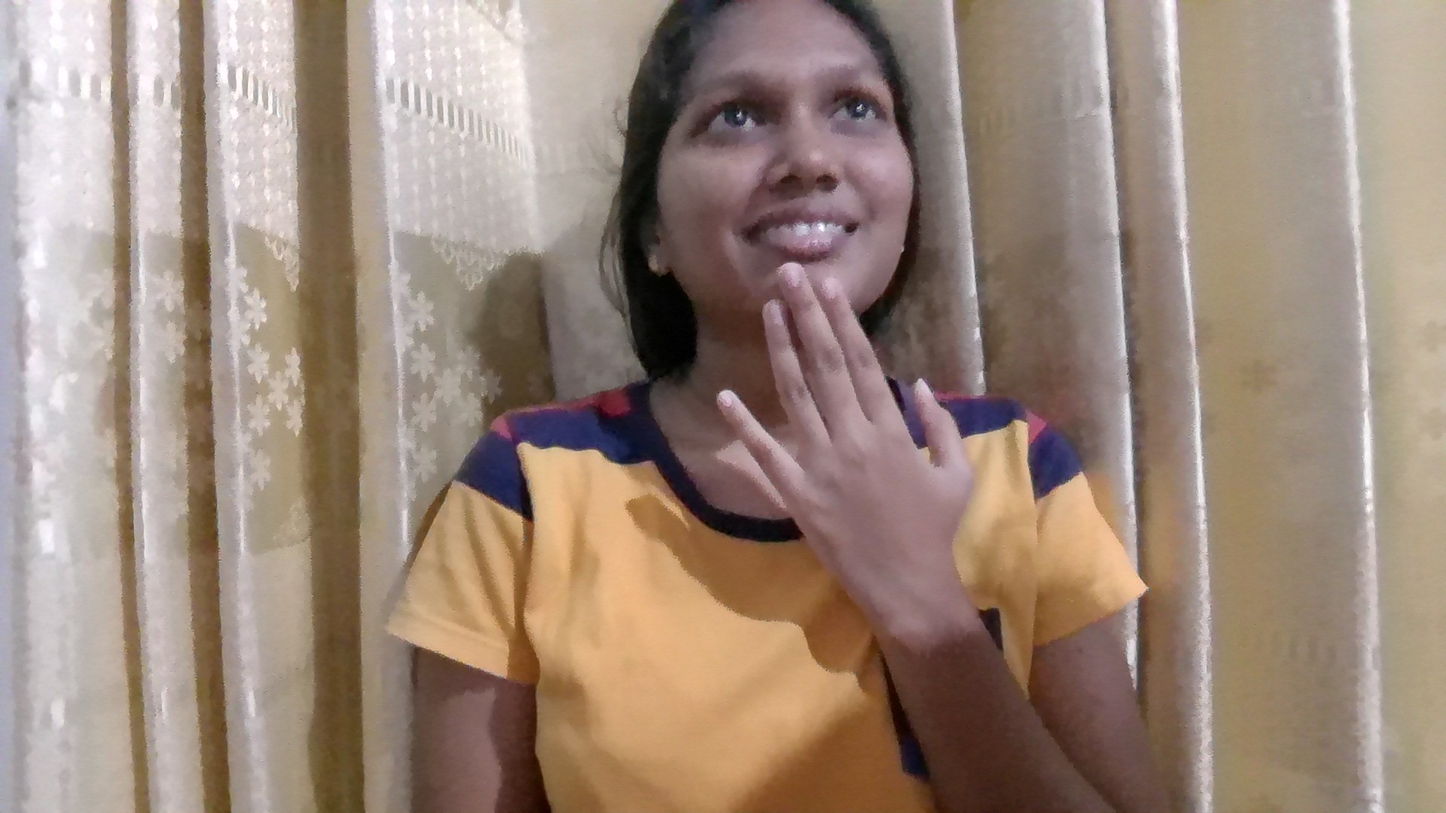Thank You: (653, 228, 1112, 654)
